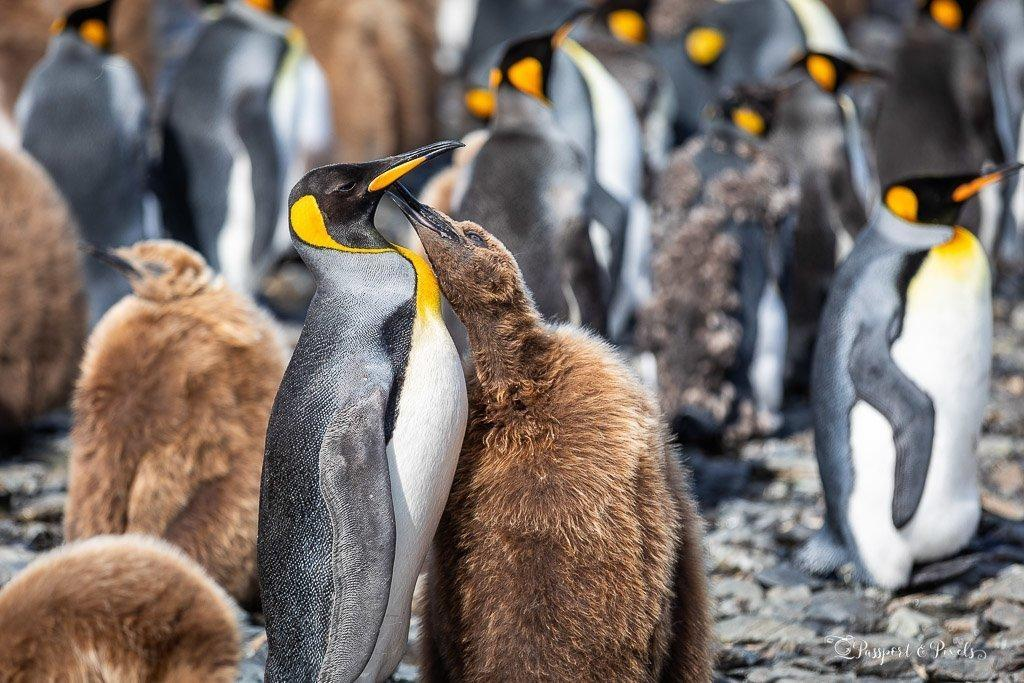Penguin: (388, 184, 712, 682), (258, 142, 468, 681), (798, 164, 1019, 588), (64, 240, 286, 603), (456, 20, 648, 335), (150, 0, 330, 301), (14, 0, 171, 247), (0, 534, 254, 682), (0, 145, 85, 468), (766, 50, 884, 268), (84, 241, 128, 334)
